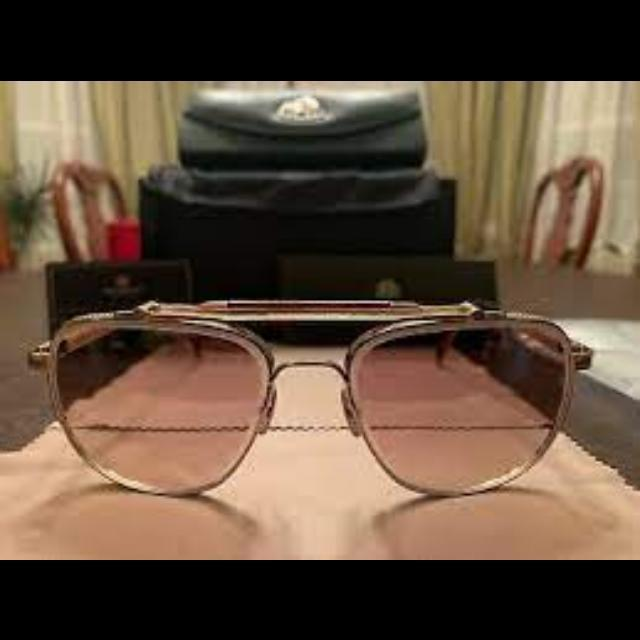glasses: (22, 288, 640, 492)
